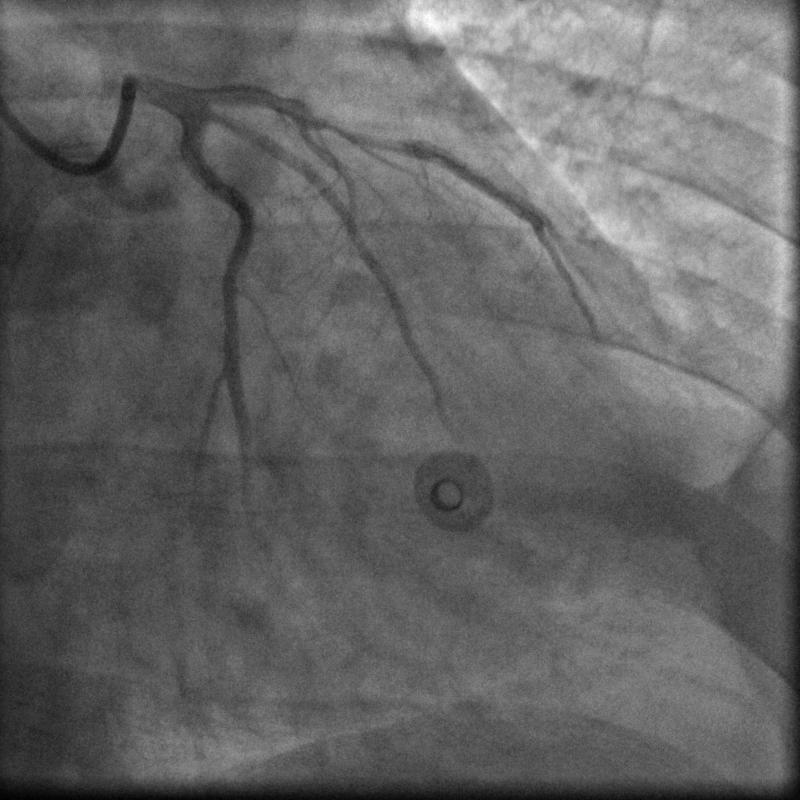Stenosis: (316, 111, 404, 154)
